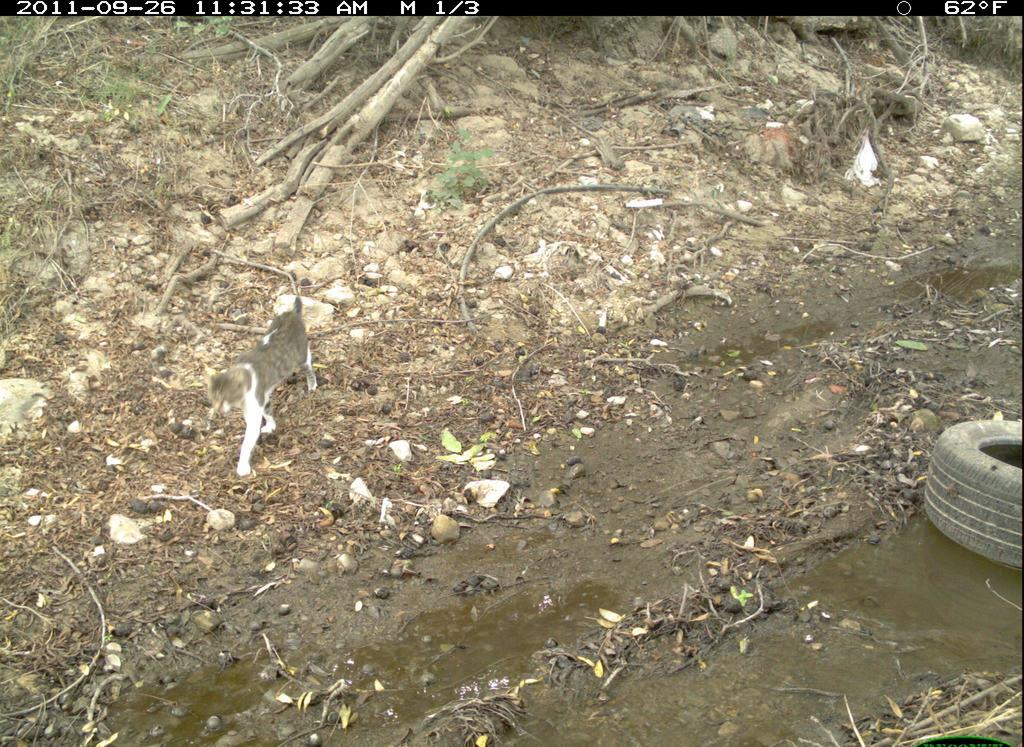cat: (199, 286, 323, 487)
